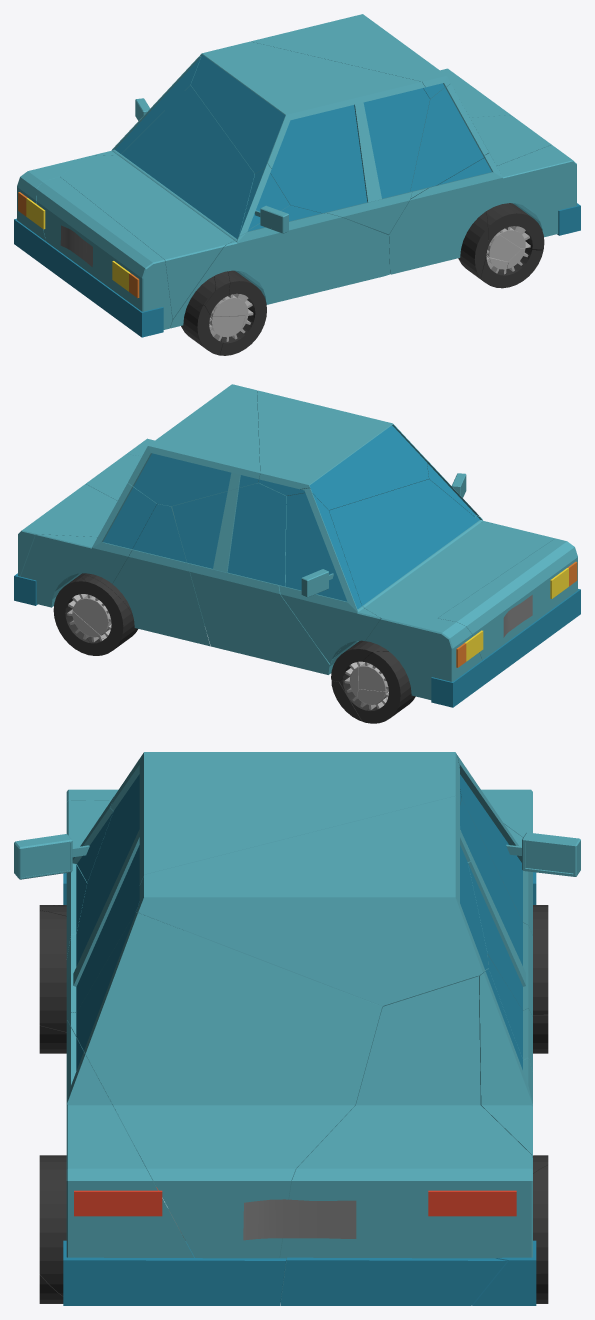
File: Car One Shatter.fbx
The picture shows the model from 3 angles, top to bottom: view 1: azimuth 30°, elevation 25°; view 2: azimuth 150°, elevation 25°; view 3: azimuth 270°, elevation 25°; orthographic projection. The views are drawn at different scales.
Parts seen in each view (by area): view 1: Car Body.001_cell.002, Car Body.001_cell, Car Body.001_cell.013, Car Body.001_cell.015, Car Body.001_cell.001, Car Body.001_cell.004, Car Body.001_cell.005, Bumper.001, Tire.004_cell.003, Car Body.001_cell.010, Car Body.001_cell.003, Car Body.001_cell.007 (+17 smaller); view 2: Car Body.001_cell, Car Body.001_cell.012, Car Body.001_cell.002, Car Body.001_cell.005, Car Body.001_cell.003, Car Body.001_cell.009, Car Body.001_cell.008, Car Body.001_cell.001, Car Body.001_cell.007, Bumper.001, Car Body.001_cell.016, Tire.007_cell.004 (+14 smaller); view 3: Car Body.001_cell.004, Car Body.001_cell.005, Car Body.001_cell.016, Car Body.001_cell.002, Car Body.001_cell.013, Back Bumper.001_cell.001, Back Bumper.001_cell.003, Car Body.001_cell.012, Car Body.001_cell.008, Plane.001, Car Body.001_cell.003, Tire.004_cell.003 (+14 smaller).
Part boxes in pixels (x1,y1,x2,y2): Car Body.001_cell.002: [191, 41, 429, 234]; Car Body.001_cell: [60, 85, 254, 320]; Car Body.001_cell.013: [389, 145, 576, 274]; Car Body.001_cell.015: [170, 205, 389, 328]; Car Body.001_cell.001: [36, 176, 172, 329]; Car Body.001_cell.004: [410, 83, 551, 199]; Car Body.001_cell.005: [251, 14, 450, 98]; Bumper.001: [14, 218, 163, 337]; Tire.004_cell.003: [486, 203, 544, 259]; Car Body.001_cell.010: [239, 163, 289, 236]; Car Body.001_cell.003: [91, 56, 200, 155]; Car Body.001_cell.007: [17, 156, 86, 240]; Car Body.001_cell: [329, 479, 554, 641]; Car Body.001_cell.012: [171, 483, 358, 674]; Car Body.001_cell.002: [257, 390, 428, 510]; Car Body.001_cell.005: [128, 384, 260, 506]; Car Body.001_cell.003: [279, 488, 380, 663]; Car Body.001_cell.009: [112, 504, 210, 646]; Car Body.001_cell.008: [20, 483, 156, 607]; Car Body.001_cell.001: [438, 538, 577, 659]; Car Body.001_cell.007: [365, 618, 481, 699]; Bumper.001: [431, 589, 580, 707]; Car Body.001_cell.016: [18, 483, 157, 586]; Tire.007_cell.004: [349, 651, 415, 723]; Car Body.001_cell.004: [67, 912, 382, 1258]; Car Body.001_cell.005: [136, 796, 488, 1006]; Car Body.001_cell.016: [280, 976, 532, 1299]; Car Body.001_cell.002: [66, 752, 461, 1070]; Car Body.001_cell.013: [66, 1021, 194, 1257]; Back Bumper.001_cell.001: [63, 1240, 286, 1305]; Back Bumper.001_cell.003: [280, 1257, 506, 1305]; Car Body.001_cell.012: [98, 798, 532, 1109]; Car Body.001_cell.008: [479, 969, 532, 1157]; Plane.001: [243, 1199, 356, 1240]; Car Body.001_cell.003: [457, 755, 532, 935]; Tire.004_cell.003: [39, 1155, 66, 1295].
Bounding box in the file's own units: 357 × 154 × 215.
